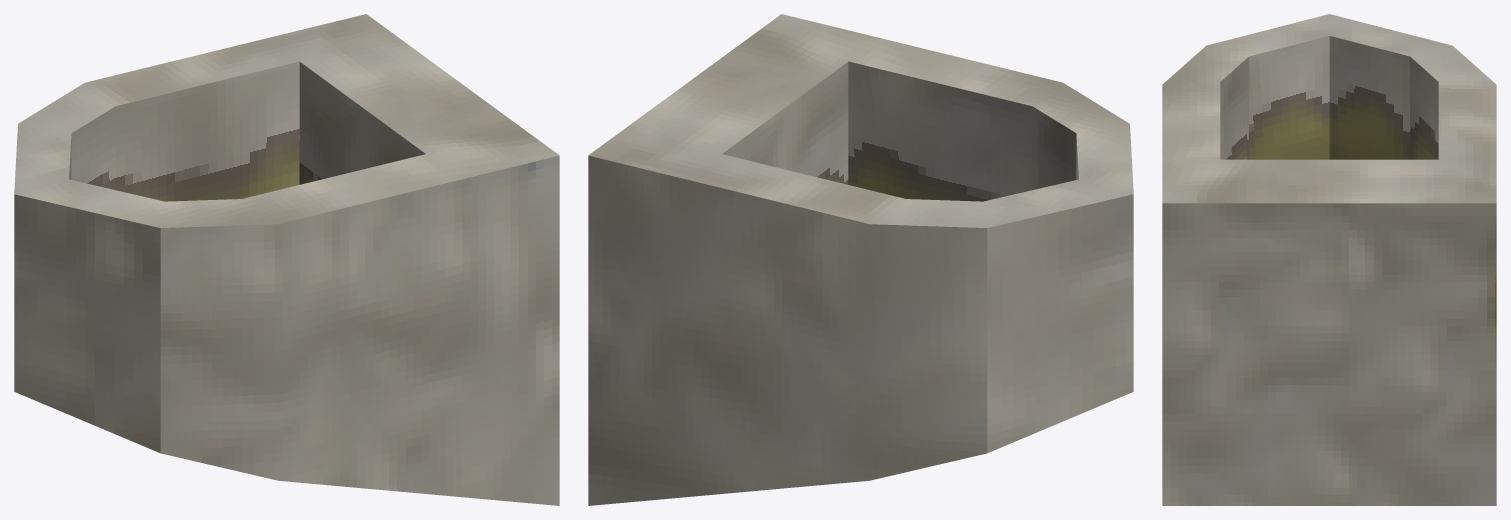
File: Toilet.glb
The picture shows the model from 3 angles, left to right: view 1: azimuth 30°, elevation 25°; view 2: azimuth 150°, elevation 25°; view 3: azimuth 270°, elevation 25°; orthographic projection. The views are drawn at different scales.
Parts seen in each view (by area): view 1: Toilet; view 2: Toilet; view 3: Toilet.
Part boxes in pixels (x1,y1,x2,y2): Toilet: (14, 14, 559, 505); Toilet: (588, 14, 1133, 505); Toilet: (1162, 14, 1496, 505).
Size of the model in its own units: 2.68 by 2.01 by 2.
1 material, 1 textured.
